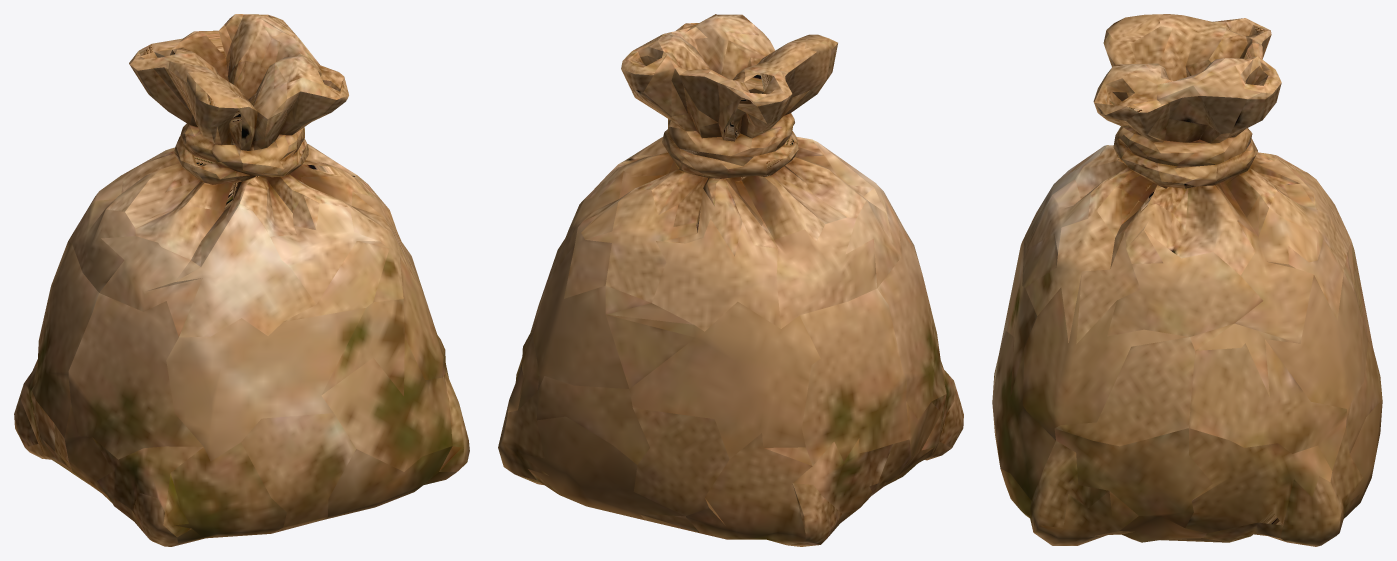
The model's file is flour-sack.low.glb.
3 views of the same model, side by side, from view 1: azimuth 30°, elevation 25°; view 2: azimuth 150°, elevation 25°; view 3: azimuth 270°, elevation 25° (orthographic). The views are drawn at different scales.
Visible parts, largest first — view 1: output_unwrapped; view 2: output_unwrapped; view 3: output_unwrapped.
Part boxes in pixels (x1,y1,x2,y2): output_unwrapped: [14, 14, 469, 546]; output_unwrapped: [498, 14, 963, 546]; output_unwrapped: [992, 14, 1382, 546].
Bounding box in the file's own units: 1.64 × 1.9 × 1.53.
1 material, 1 textured.
